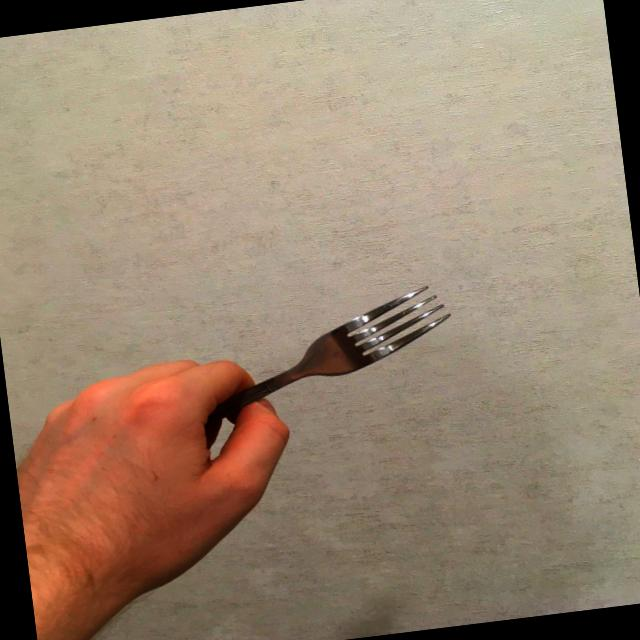fork: (140, 282, 464, 449)
